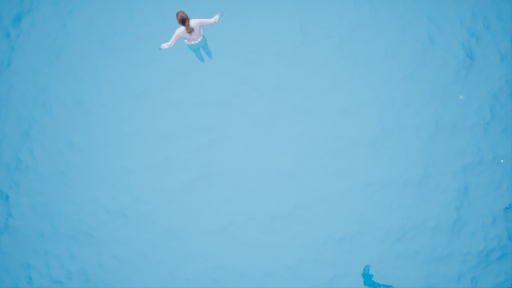person: (157, 5, 216, 62)
